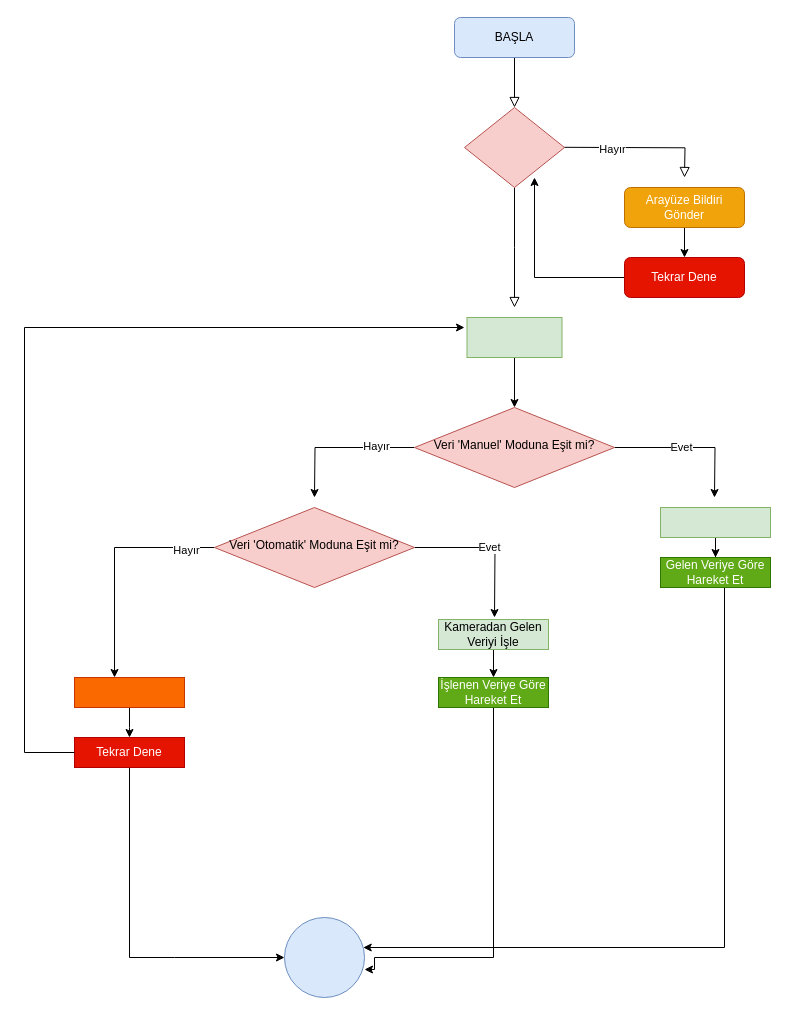
This 788x1015 diagram has some shape labels left out. The shapes that lost their labels are listed below. From the top down, each one's box as (x1, y1, x2, y2) in pixels, then its label:
(464, 106, 564, 188): Bağlantı Sağlandı mı?
(466, 316, 562, 358): Kumandadan Gelen Mod Verisini Oku
(660, 506, 770, 538): Veriyi Oku
(74, 676, 184, 708): Arayüze Hata Bildirisi Gönder
(284, 916, 364, 998): Bitir
